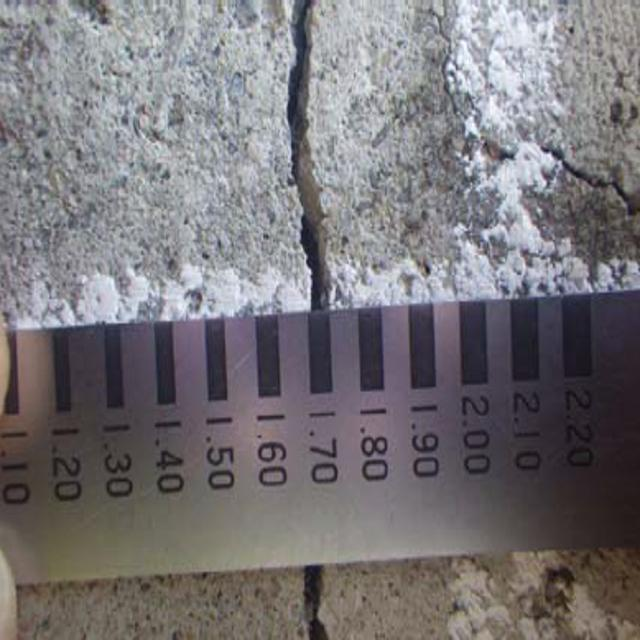crack: (425, 8, 640, 227), (250, 10, 357, 306), (290, 570, 349, 640)
